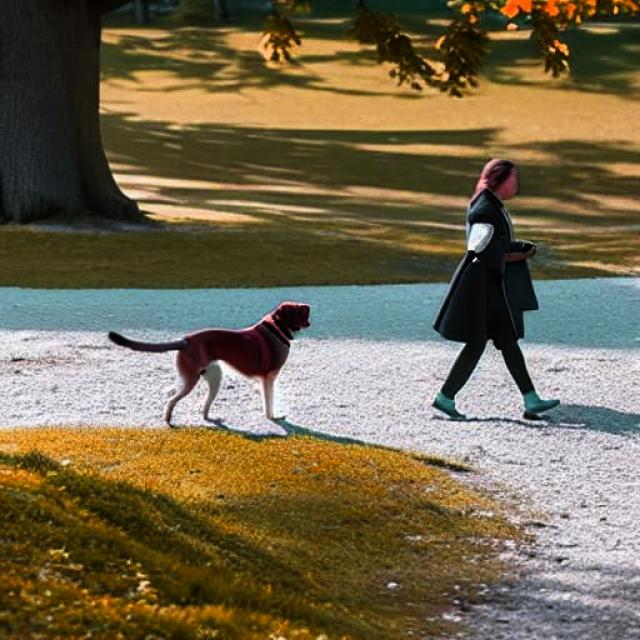Unleashed_Dog: (106, 290, 516, 424)
